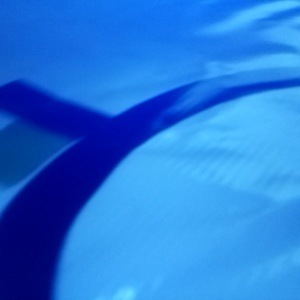bottom_left: (1, 117, 99, 189)
